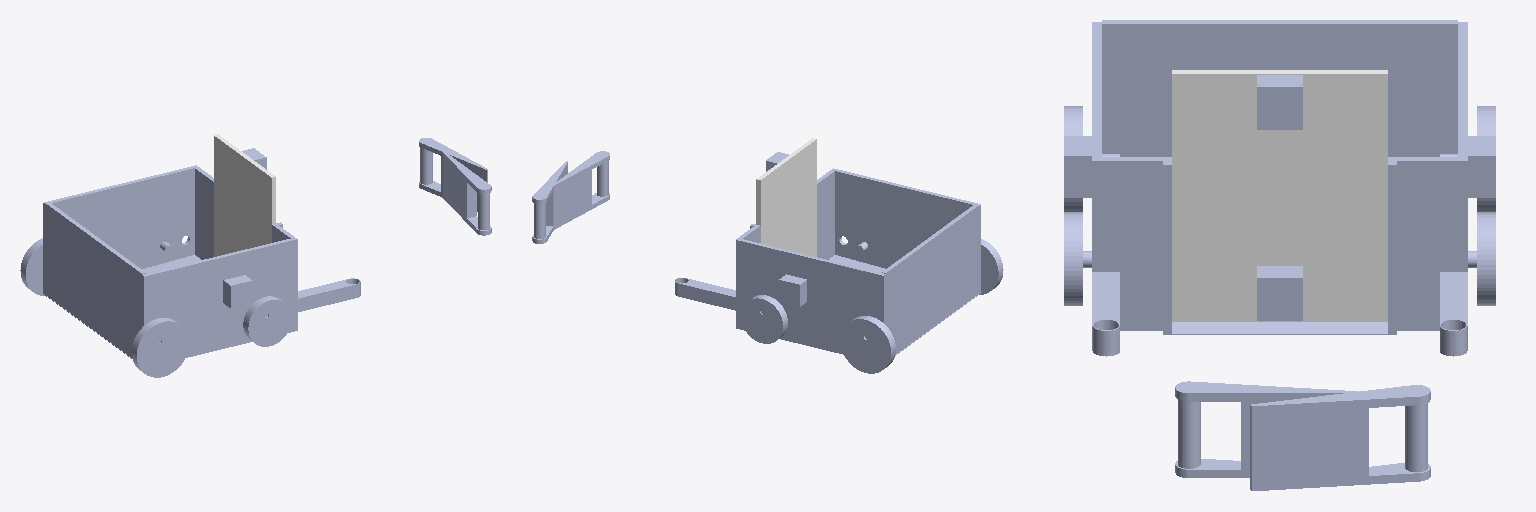
URDF robot description (bot1):
<?xml version="1.0" encoding="utf-8"?>

<robot
  name="bot1">
  <link
    name="base_link">
    <inertial>
      <origin
        xyz="0.045732 0.09332 1.1107E-16"
        rpy="0 0 0" />
      <mass
        value="2.0304" />
      <inertia
        ixx="0.072006"
        ixy="-0.00042676"
        ixz="-3.7413E-17"
        iyy="0.092836"
        iyz="-5.2298E-18"
        izz="0.036075" />
    </inertial>
    <visual>
      <origin
        xyz="0 0 0"
        rpy="0 0 0" />
      <geometry>
        <mesh
          filename="package://bot1/meshes/base_link.STL" />
      </geometry>
      <material
        name="">
        <color
          rgba="0.79216 0.81961 0.93333 1" />
      </material>
    </visual>
    <collision>
      <origin
        xyz="0 0 0"
        rpy="0 0 0" />
      <geometry>
        <mesh
          filename="package://bot1/meshes/base_link.STL" />
      </geometry>
    </collision>
  </link>
  <link
    name="B">
    <inertial>
      <origin
        xyz="0.005 0.1 2.2811E-17"
        rpy="0 0 0" />
      <mass
        value="0.76" />
      <inertia
        ixx="0.011679"
        ixy="1.0729E-20"
        ixz="1.7754E-20"
        iyy="0.0091517"
        iyz="1.7658E-19"
        izz="0.0025397" />
    </inertial>
    <visual>
      <origin
        xyz="0.175 0 0"
        rpy="0 0 0" />
      <geometry>
        <mesh
          filename="package://bot1/meshes/B.STL" />
      </geometry>
      <material
        name="">
        <color
          rgba="0.79216 0.81961 0.93333 1" />
      </material>
    </visual>
    <collision>
      <origin
        xyz="0.175 0 0"
        rpy="0 0 0" />
      <geometry>
        <mesh
          filename="package://bot1/meshes/B.STL" />
      </geometry>
    </collision>
  </link>
  <joint
    name="BJ"
    type="prismatic">
    <origin
      xyz="-0.175 0 0.001"
      rpy="1.5708 0 0" />
    <parent
      link="base_link" />
    <child
      link="B" />
    <axis
      xyz="0 -1 0" />
    <limit
      lower="-0.15"
      upper="0"
      effort="100"
      velocity="0.1" />
    <safety_controller
      k_velocity="0" />
  </joint>
  <link
    name="FRW">
    <inertial>
      <origin
        xyz="-2.7756E-17 -3.7636E-05 -0.048156"
        rpy="0 0 0" />
      <mass
        value="0.16694" />
      <inertia
        ixx="0.00011342"
        ixy="0"
        ixz="2.647E-21"
        iyy="0.00011354"
        iyz="-6.1853E-08"
        izz="0.00019663" />
    </inertial>
    <visual>
      <origin
        xyz="0 0 0"
        rpy="0 0 0" />
      <geometry>
        <mesh
          filename="package://bot1/meshes/FRW.STL" />
      </geometry>
      <material
        name="">
        <color
          rgba="0.79216 0.81961 0.93333 1" />
      </material>
    </visual>
    <collision>
      <origin
        xyz="0 0 0"
        rpy="0 0 0" />
      <geometry>
        <mesh
          filename="package://bot1/meshes/FRW.STL" />
      </geometry>
    </collision>
  </link>
  <joint
    name="FRWJ"
    type="continuous">
    <origin
      xyz="0.095 -0.17 0.047"
      rpy="1.5707963267949 0.39309481042652 -3.14159265358979" />
    <parent
      link="base_link" />
    <child
      link="FRW" />
    <axis
      xyz="0 0 1" />
    <safety_controller
      k_velocity="0" />
  </joint>
  <link
    name="RRW">
    <inertial>
      <origin
        xyz="0 -3.7636E-05 -0.048156"
        rpy="0 0 0" />
      <mass
        value="0.16694" />
      <inertia
        ixx="0.00011342"
        ixy="1.0164E-20"
        ixz="2.6933E-21"
        iyy="0.00011354"
        iyz="-6.1853E-08"
        izz="0.00019663" />
    </inertial>
    <visual>
      <origin
        xyz="0 0 0"
        rpy="0 0 0" />
      <geometry>
        <mesh
          filename="package://bot1/meshes/RRW.STL" />
      </geometry>
      <material
        name="">
        <color
          rgba="0.79216 0.81961 0.93333 1" />
      </material>
    </visual>
    <collision>
      <origin
        xyz="0 0 0"
        rpy="0 0 0" />
      <geometry>
        <mesh
          filename="package://bot1/meshes/RRW.STL" />
      </geometry>
    </collision>
  </link>
  <joint
    name="RRWJ"
    type="continuous">
    <origin
      xyz="-0.065 -0.17 0.047"
      rpy="1.5707963267949 0.393094810426521 -3.14159265358979" />
    <parent
      link="base_link" />
    <child
      link="RRW" />
    <axis
      xyz="0 0 1" />
    <safety_controller
      k_velocity="0" />
  </joint>
  <link
    name="FLW">
    <inertial>
      <origin
        xyz="1.3878E-17 -3.7636E-05 -0.048156"
        rpy="0 0 0" />
      <mass
        value="0.16694" />
      <inertia
        ixx="0.00011342"
        ixy="-3.1238E-22"
        ixz="-9.8323E-22"
        iyy="0.00011354"
        iyz="-6.1853E-08"
        izz="0.00019663" />
    </inertial>
    <visual>
      <origin
        xyz="0 0 0"
        rpy="0 0 0" />
      <geometry>
        <mesh
          filename="package://bot1/meshes/FLW.STL" />
      </geometry>
      <material
        name="">
        <color
          rgba="0.79216 0.81961 0.93333 1" />
      </material>
    </visual>
    <collision>
      <origin
        xyz="0 0 0"
        rpy="0 0 0" />
      <geometry>
        <mesh
          filename="package://bot1/meshes/FLW.STL" />
      </geometry>
    </collision>
  </link>
  <joint
    name="FLWJ"
    type="continuous">
    <origin
      xyz="0.095 0.17 0.047"
      rpy="1.5707963267949 0 0" />
    <parent
      link="base_link" />
    <child
      link="FLW" />
    <axis
      xyz="0 0 -1" />
    <safety_controller
      k_velocity="0" />
  </joint>
  <link
    name="RLW">
    <inertial>
      <origin
        xyz="0 -3.7636E-05 -0.048156"
        rpy="0 0 0" />
      <mass
        value="0.16694" />
      <inertia
        ixx="0.00011342"
        ixy="-2.065E-22"
        ixz="-9.8323E-22"
        iyy="0.00011354"
        iyz="-6.1853E-08"
        izz="0.00019663" />
    </inertial>
    <visual>
      <origin
        xyz="0 0 0"
        rpy="0 0 0" />
      <geometry>
        <mesh
          filename="package://bot1/meshes/RLW.STL" />
      </geometry>
      <material
        name="">
        <color
          rgba="0.79216 0.81961 0.93333 1" />
      </material>
    </visual>
    <collision>
      <origin
        xyz="0 0 0"
        rpy="0 0 0" />
      <geometry>
        <mesh
          filename="package://bot1/meshes/RLW.STL" />
      </geometry>
    </collision>
  </link>
  <joint
    name="RLWJ"
    type="continuous">
    <origin
      xyz="-0.065 0.17 0.047"
      rpy="1.5707963267949 0 0" />
    <parent
      link="base_link" />
    <child
      link="RLW" />
    <axis
      xyz="0 0 -1" />
    <safety_controller
      k_velocity="0" />
  </joint>
  <link
    name="RC">
    <inertial>
      <origin
        xyz="0.015 0 0"
        rpy="0 0 0" />
      <mass
        value="0.075" />
      <inertia
        ixx="3.125E-05"
        ixy="-1.6263E-22"
        ixz="4.2352E-22"
        iyy="2.125E-05"
        iyz="-1.0334E-21"
        izz="2.125E-05" />
    </inertial>
    <visual>
      <origin
        xyz="0 0 0"
        rpy="0 0 0" />
      <geometry>
        <mesh
          filename="package://bot1/meshes/RC.STL" />
      </geometry>
      <material
        name="">
        <color
          rgba="0.79216 0.81961 0.93333 1" />
      </material>
    </visual>
    <collision>
      <origin
        xyz="0 0 0"
        rpy="0 0 0" />
      <geometry>
        <mesh
          filename="package://bot1/meshes/RC.STL" />
      </geometry>
    </collision>
  </link>
  <joint
    name="RCJ"
    type="fixed">
    <origin
      xyz="0.03 -0.23 0.125"
      rpy="1.5707963267949 0 1.5707963267949" />
    <parent
      link="base_link" />
    <child
      link="RC" />
    <axis
      xyz="0 0 0" />
    <safety_controller
      k_velocity="0" />
  </joint>
  <link
    name="LC">
    <inertial>
      <origin
        xyz="0.015 0 0"
        rpy="0 0 0" />
      <mass
        value="0.075" />
      <inertia
        ixx="3.125E-05"
        ixy="1.6263E-22"
        ixz="-4.2352E-22"
        iyy="2.125E-05"
        iyz="-1.0334E-21"
        izz="2.125E-05" />
    </inertial>
    <visual>
      <origin
        xyz="0 0 0"
        rpy="0 0 0" />
      <geometry>
        <mesh
          filename="package://bot1/meshes/LC.STL" />
      </geometry>
      <material
        name="">
        <color
          rgba="0.79216 0.81961 0.93333 1" />
      </material>
    </visual>
    <collision>
      <origin
        xyz="0 0 0"
        rpy="0 0 0" />
      <geometry>
        <mesh
          filename="package://bot1/meshes/LC.STL" />
      </geometry>
    </collision>
  </link>
  <joint
    name="LCJ"
    type="fixed">
    <origin
      xyz="0.03 0.23 0.125"
      rpy="-1.5707963267949 0 -1.5707963267949" />
    <parent
      link="base_link" />
    <child
      link="LC" />
    <axis
      xyz="0 0 0" />
    <safety_controller
      k_velocity="0" />
  </joint>
  <link
    name="RA">
    <inertial>
      <origin
        xyz="0.064226 0 0"
        rpy="0 0 0" />
      <mass
        value="0.11493" />
      <inertia
        ixx="1.7546E-05"
        ixy="1.3293E-21"
        ixz="-5.3917E-21"
        iyy="0.0001712"
        iyz="-2.9655E-21"
        izz="0.00017089" />
    </inertial>
    <visual>
      <origin
        xyz="0 0 0"
        rpy="0 0 0" />
      <geometry>
        <mesh
          filename="package://bot1/meshes/RA.STL" />
      </geometry>
      <material
        name="">
        <color
          rgba="0.79216 0.81961 0.93333 1" />
      </material>
    </visual>
    <collision>
      <origin
        xyz="0 0 0"
        rpy="0 0 0" />
      <geometry>
        <mesh
          filename="package://bot1/meshes/RA.STL" />
      </geometry>
    </collision>
  </link>
  <joint
    name="RAJ"
    type="fixed">
    <origin
      xyz="0.175 -0.185 0.055"
      rpy="1.5707963267949 0 0" />
    <parent
      link="base_link" />
    <child
      link="RA" />
    <axis
      xyz="0 0 0" />
    <safety_controller
      k_velocity="0" />
  </joint>
  <link
    name="RF">
    <inertial>
      <origin
        xyz="0.075327 1.3878E-17 0.0052437"
        rpy="0 0 0" />
      <mass
        value="0.24614" />
      <inertia
        ixx="0.00024699"
        ixy="1.1698E-20"
        ixz="-4.7172E-05"
        iyy="0.00069522"
        iyz="3.0415E-20"
        izz="0.00092098" />
    </inertial>
    <visual>
      <origin
        xyz="0 0 0"
        rpy="0 0 0" />
      <geometry>
        <mesh
          filename="package://bot1/meshes/RF.STL" />
      </geometry>
      <material
        name="">
        <color
          rgba="0.79216 0.81961 0.93333 1" />
      </material>
    </visual>
    <collision>
      <origin
        xyz="0 0 0"
        rpy="0 0 0" />
      <geometry>
        <mesh
          filename="package://bot1/meshes/RF.STL" />
      </geometry>
    </collision>
  </link>
  <joint
    name="RFJ"
    type="revolute">
    <origin
      xyz="0.135 0 0"
      rpy="0 0.7854 0" />
    <parent
      link="RA" />
    <child
      link="RF" />
    <axis
      xyz="0 1 0" />
    <limit
      lower="-1.309"
      upper="0.7854"
      effort="100"
      velocity="0.125" />
    <safety_controller
      k_velocity="0" />
  </joint>
  <link
    name="LA">
    <inertial>
      <origin
        xyz="0.064226 0 0"
        rpy="0 0 0" />
      <mass
        value="0.11493" />
      <inertia
        ixx="1.7546E-05"
        ixy="5.6286E-21"
        ixz="2.0529E-21"
        iyy="0.0001712"
        iyz="-2.9655E-21"
        izz="0.00017089" />
    </inertial>
    <visual>
      <origin
        xyz="-0.175 -0.055 0.185"
        rpy="0 0 0" />
      <geometry>
        <mesh
          filename="package://bot1/meshes/LA.STL" />
      </geometry>
      <material
        name="">
        <color
          rgba="0.79216 0.81961 0.93333 1" />
      </material>
    </visual>
    <collision>
      <origin
        xyz="-0.175 -0.055 0.185"
        rpy="0 0 0" />
      <geometry>
        <mesh
          filename="package://bot1/meshes/LA.STL" />
      </geometry>
    </collision>
  </link>
  <joint
    name="LAJ"
    type="fixed">
    <origin
      xyz="0.175 0.185 0.055"
      rpy="1.5708 0 0" />
    <parent
      link="base_link" />
    <child
      link="LA" />
    <axis
      xyz="0 0 0" />
    <safety_controller
      k_velocity="0" />
  </joint>
  <link
    name="LF">
    <inertial>
      <origin
        xyz="0.075327 6.9389E-18 0.0052437"
        rpy="0 0 0" />
      <mass
        value="0.24614" />
      <inertia
        ixx="0.00024699"
        ixy="2.2224E-20"
        ixz="-4.7172E-05"
        iyy="0.00069522"
        iyz="-1.3368E-20"
        izz="0.00092098" />
    </inertial>
    <visual>
      <origin
        xyz="0 0 0"
        rpy="0 0 0" />
      <geometry>
        <mesh
          filename="package://bot1/meshes/LF.STL" />
      </geometry>
      <material
        name="">
        <color
          rgba="0.79216 0.81961 0.93333 1" />
      </material>
    </visual>
    <collision>
      <origin
        xyz="0 0 0"
        rpy="0 0 0" />
      <geometry>
        <mesh
          filename="package://bot1/meshes/LF.STL" />
      </geometry>
    </collision>
  </link>
  <joint
    name="LFJ"
    type="revolute">
    <origin
      xyz="0.135 0 0"
      rpy="0 -0.64739 0" />
    <parent
      link="LA" />
    <child
      link="LF" />
    <axis
      xyz="0 1 0" />
    <limit
      lower="-1.309"
      upper="0.7854"
      effort="100"
      velocity="0.125" />
    <safety_controller
      k_velocity="0" />
  </joint>
  <link
    name="F">
    <inertial>
      <origin
        xyz="0 0 0"
        rpy="0 0 0" />
      <mass
        value="0" />
      <inertia
        ixx="0"
        ixy="0"
        ixz="0"
        iyy="0"
        iyz="0"
        izz="0" />
    </inertial>
    <visual>
      <origin
        xyz="-0.165 0 0"
        rpy="0 0 0" />
      <geometry>
        <mesh
          filename="package://bot1/meshes/F.STL" />
      </geometry>
      <material
        name="">
        <color
          rgba="1 1 1 1" />
      </material>
    </visual>
    <collision>
      <origin
        xyz="0 0 0"
        rpy="0 0 0" />
      <geometry>
        <mesh
          filename="package://bot1/meshes/F.STL" />
      </geometry>
    </collision>
  </link>
  <joint
    name="FJ"
    type="prismatic">
    <origin
      xyz="0.165 0 0.001"
      rpy="1.5708 0 0" />
    <parent
      link="base_link" />
    <child
      link="F" />
    <axis
      xyz="0 -1 0" />
    <limit
      lower="-0.18"
      upper="0"
      effort="100"
      velocity="0.1" />
    <safety_controller
      k_velocity="0" />
  </joint>
  <link
    name="FC">
    <inertial>
      <origin
        xyz="0.015 0 1.3105E-16"
        rpy="0 0 0" />
      <mass
        value="0.075" />
      <inertia
        ixx="3.125E-05"
        ixy="5.4323E-22"
        ixz="-2.4651E-36"
        iyy="2.125E-05"
        iyz="-1.8149E-21"
        izz="2.125E-05" />
    </inertial>
    <visual>
      <origin
        xyz="0 0 0"
        rpy="0 0 0" />
      <geometry>
        <mesh
          filename="package://bot1/meshes/FC.STL" />
      </geometry>
      <material
        name="">
        <color
          rgba="0.79216 0.81961 0.93333 1" />
      </material>
    </visual>
    <collision>
      <origin
        xyz="0 0 0"
        rpy="0 0 0" />
      <geometry>
        <mesh
          filename="package://bot1/meshes/FC.STL" />
      </geometry>
    </collision>
  </link>
  <joint
    name="FCJ"
    type="fixed">
    <origin
      xyz="0.01 0.275 0"
      rpy="0 0 0" />
    <parent
      link="F" />
    <child
      link="FC" />
    <axis
      xyz="0 0 0" />
    <safety_controller
      k_velocity="0" />
  </joint>
  <link
    name="L">
    <inertial>
      <origin
        xyz="0.025 1.3878E-17 1.1371E-16"
        rpy="0 0 0" />
      <mass
        value="0.075" />
      <inertia
        ixx="3.125E-05"
        ixy="2.5429E-36"
        ixz="-5.8031E-37"
        iyy="2.125E-05"
        iyz="-2.9499E-21"
        izz="2.125E-05" />
    </inertial>
    <visual>
      <origin
        xyz="0 0 0"
        rpy="0 0 0" />
      <geometry>
        <mesh
          filename="package://bot1/meshes/L.STL" />
      </geometry>
      <material
        name="">
        <color
          rgba="0.79216 0.81961 0.93333 1" />
      </material>
    </visual>
    <collision>
      <origin
        xyz="0 0 0"
        rpy="0 0 0" />
      <geometry>
        <mesh
          filename="package://bot1/meshes/L.STL" />
      </geometry>
    </collision>
  </link>
  <joint
    name="LJ"
    type="fixed">
    <origin
      xyz="0 0.05 0"
      rpy="0 0 0" />
    <parent
      link="F" />
    <child
      link="L" />
    <axis
      xyz="0 0 0" />
    <safety_controller
      k_velocity="0" />
  </joint>
</robot>

--- Render facts (derived) ---
3 views of the same robot in one strip: view 1: azimuth 30°, elevation 25°; view 2: azimuth 150°, elevation 25°; view 3: azimuth 270°, elevation 25° (orthographic).
Model bot1 with 15 links and 14 joints (2 revolute, 4 continuous, 2 prismatic, 6 fixed), rooted at base_link, posed all joints at 0.
Links seen in each view (by area): view 1: base_link, B, F, RRW, RF, FRW, LF, RA, RLW, RC; view 2: base_link, B, F, RF, RLW, FLW, LF, LA, RRW, LC; view 3: F, base_link, B, LF, RF, FC, L, RA, LA, FRW, FLW, RC (+3 smaller).
Boxes of the visible links, box(x1,y1,x2,y2) form: base_link: box(43, 165, 297, 358); B: box(46, 203, 145, 357); F: box(214, 134, 275, 256); RRW: box(132, 318, 188, 377); RF: box(443, 152, 491, 235); FRW: box(243, 296, 291, 346); LF: box(419, 138, 487, 211); RA: box(298, 278, 360, 311); RLW: box(20, 238, 44, 295); RC: box(223, 275, 252, 308); base_link: box(736, 168, 980, 355); B: box(882, 204, 978, 354); F: box(756, 138, 816, 256); RF: box(553, 151, 609, 229); RLW: box(840, 316, 895, 373); FLW: box(741, 295, 787, 343); LF: box(532, 161, 567, 243); LA: box(675, 278, 735, 310); RRW: box(979, 239, 1003, 294); LC: box(779, 274, 806, 306); F: box(1172, 70, 1387, 321); base_link: box(1092, 22, 1467, 334); B: box(1102, 20, 1457, 156); LF: box(1250, 385, 1430, 490); RF: box(1175, 381, 1357, 477); FC: box(1257, 75, 1302, 129); L: box(1257, 266, 1302, 320); RA: box(1092, 272, 1119, 356); LA: box(1440, 272, 1467, 356); FRW: box(1064, 212, 1091, 305); FLW: box(1468, 212, 1495, 305); RC: box(1064, 136, 1091, 197).
Bounding box of the posed robot: 0.9183 × 0.46 × 0.315 m (x, y, z).
15 mesh visuals loaded from 15 distinct referenced files (15 binary STL).
